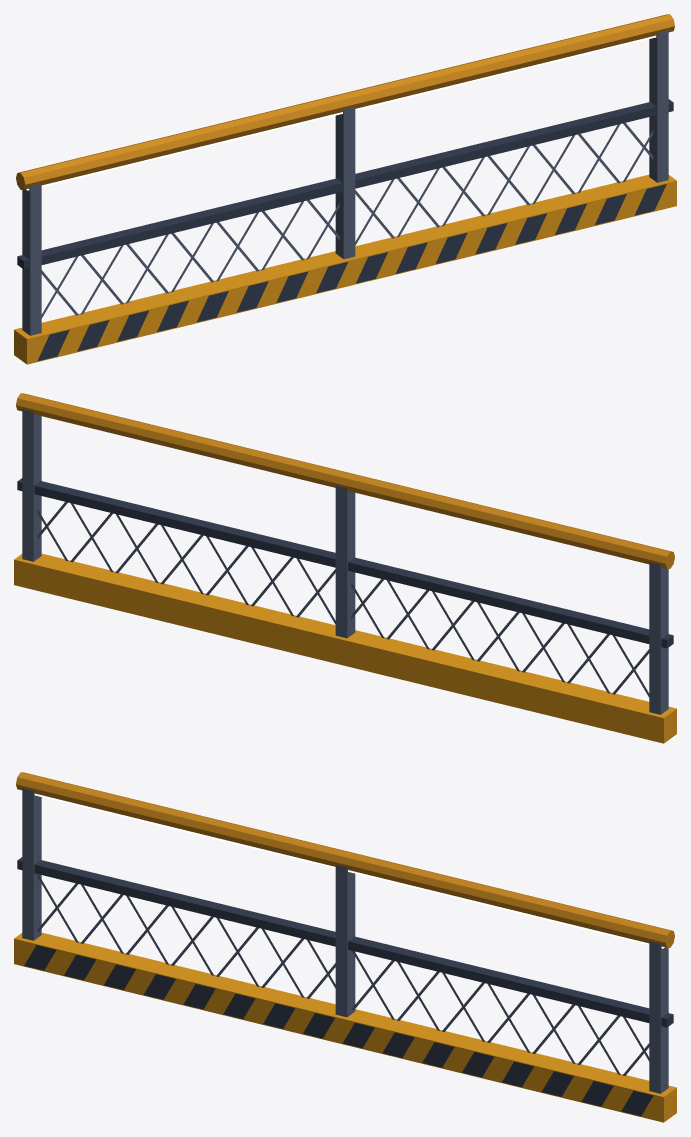
The model's file is lab_catwalk_rail.glb.
The picture shows the model from 3 angles, top to bottom: view 1: azimuth 30°, elevation 25°; view 2: azimuth 150°, elevation 25°; view 3: azimuth 330°, elevation 25°; orthographic projection.
Parts seen in each view (by area): view 1: kickplate, knee_rail, mesh_ribbon, handrail, underside_led; view 2: kickplate, mesh_ribbon, handrail, knee_rail; view 3: kickplate, knee_rail, mesh_ribbon, handrail, underside_led.
Part boxes in pixels (x1,y1,x2,y2): kickplate: (14,174,676,364); knee_rail: (17,99,673,361); mesh_ribbon: (22,30,668,335); handrail: (16,14,674,189); underside_led: (26,32,669,190); kickplate: (14,553,676,743); mesh_ribbon: (22,409,668,714); handrail: (16,393,674,568); knee_rail: (17,478,673,648); kickplate: (14,932,676,1122); knee_rail: (17,857,673,1116); mesh_ribbon: (22,788,668,1093); handrail: (16,772,674,947); underside_led: (21,790,664,948).
Bounding box in the file's own units: 4 × 1.1 × 0.1403.
